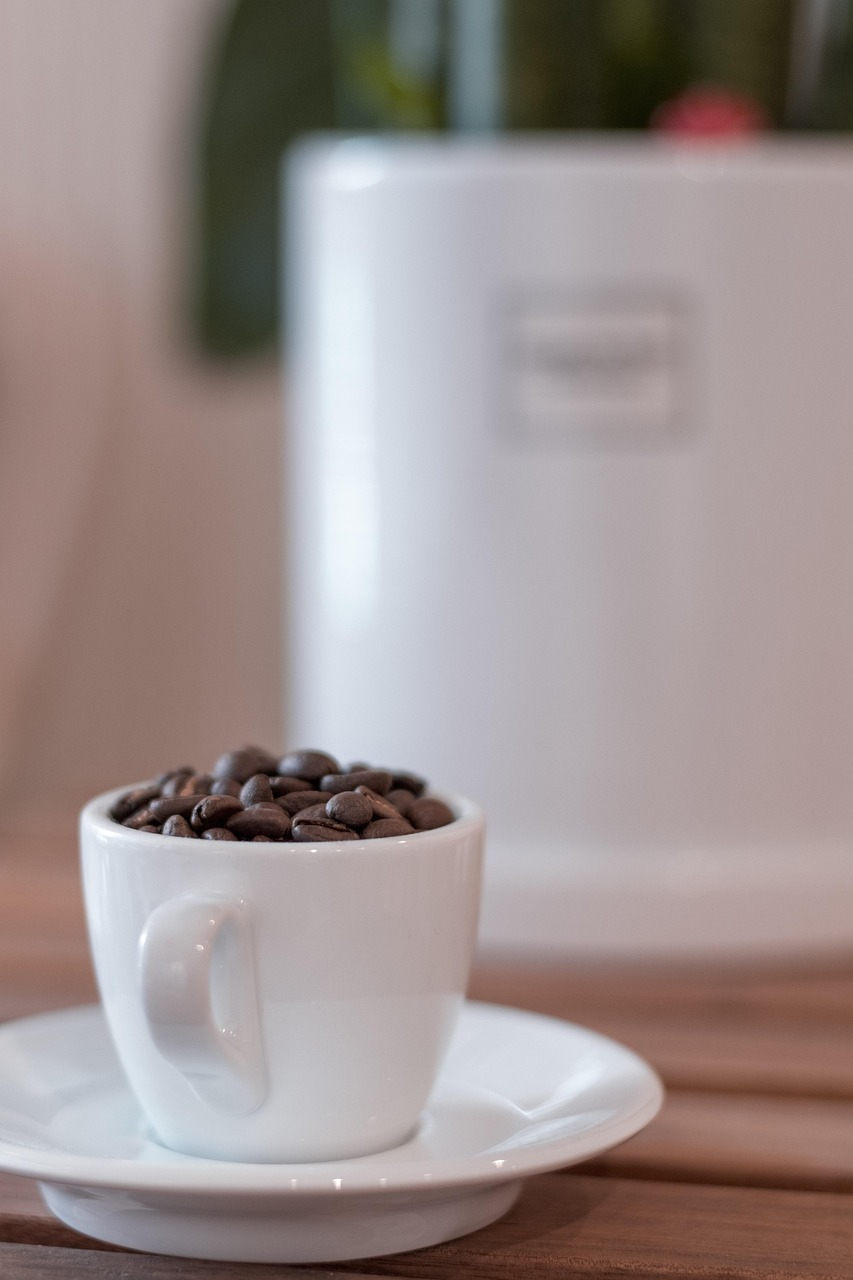mug: (45, 736, 550, 1170)
